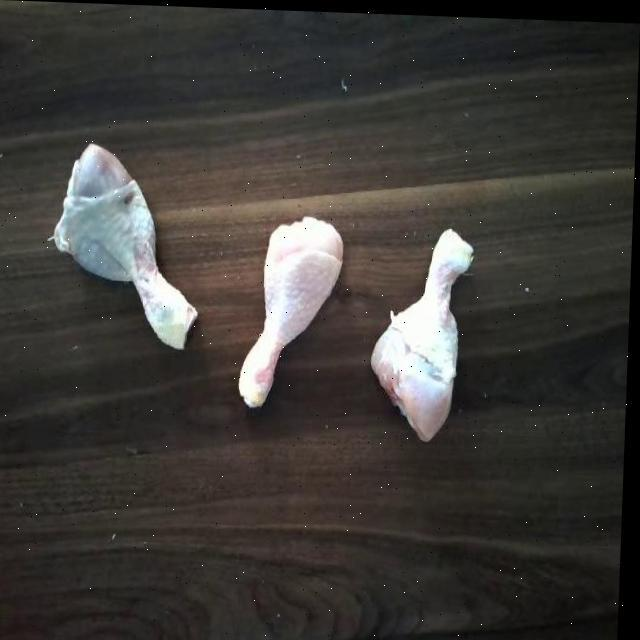leg: (52, 138, 205, 350), (236, 206, 352, 416), (373, 220, 480, 444)
